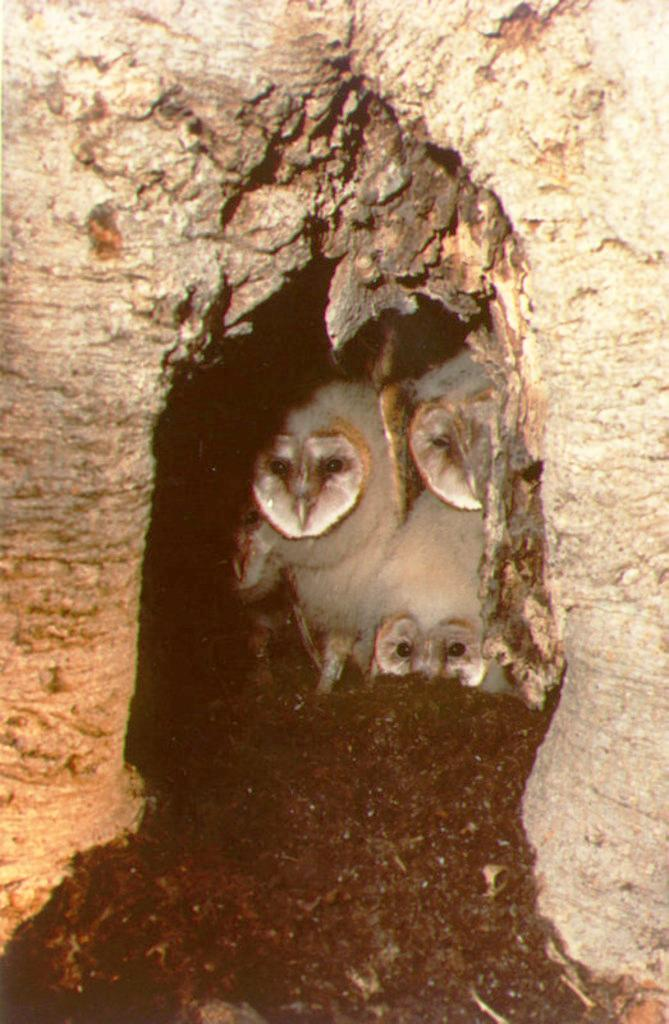Owl: (231, 352, 378, 662), (380, 330, 515, 590), (348, 575, 516, 727)
